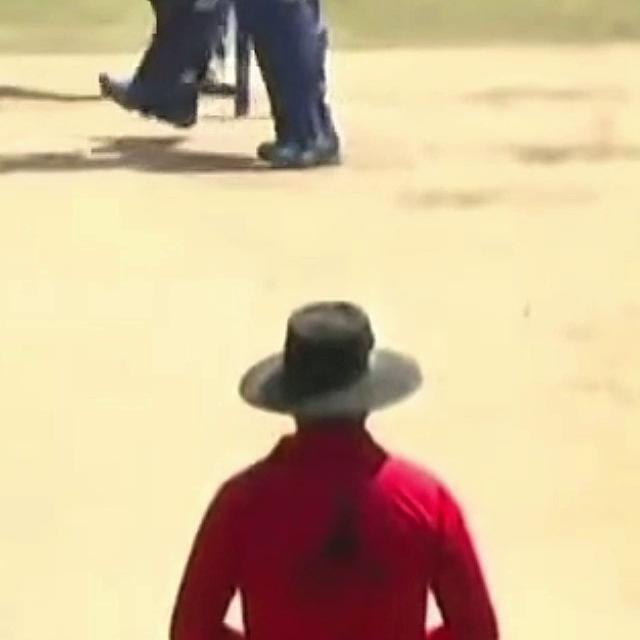umpire: (155, 294, 505, 640)
